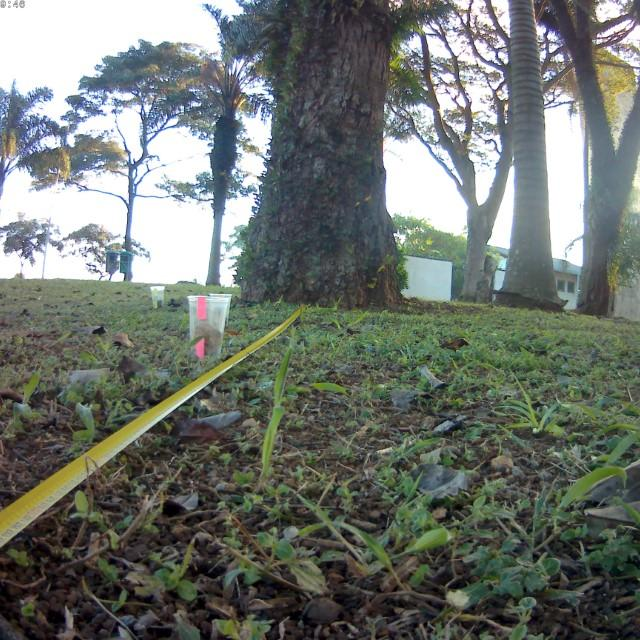arvore: (241, 0, 412, 309)
